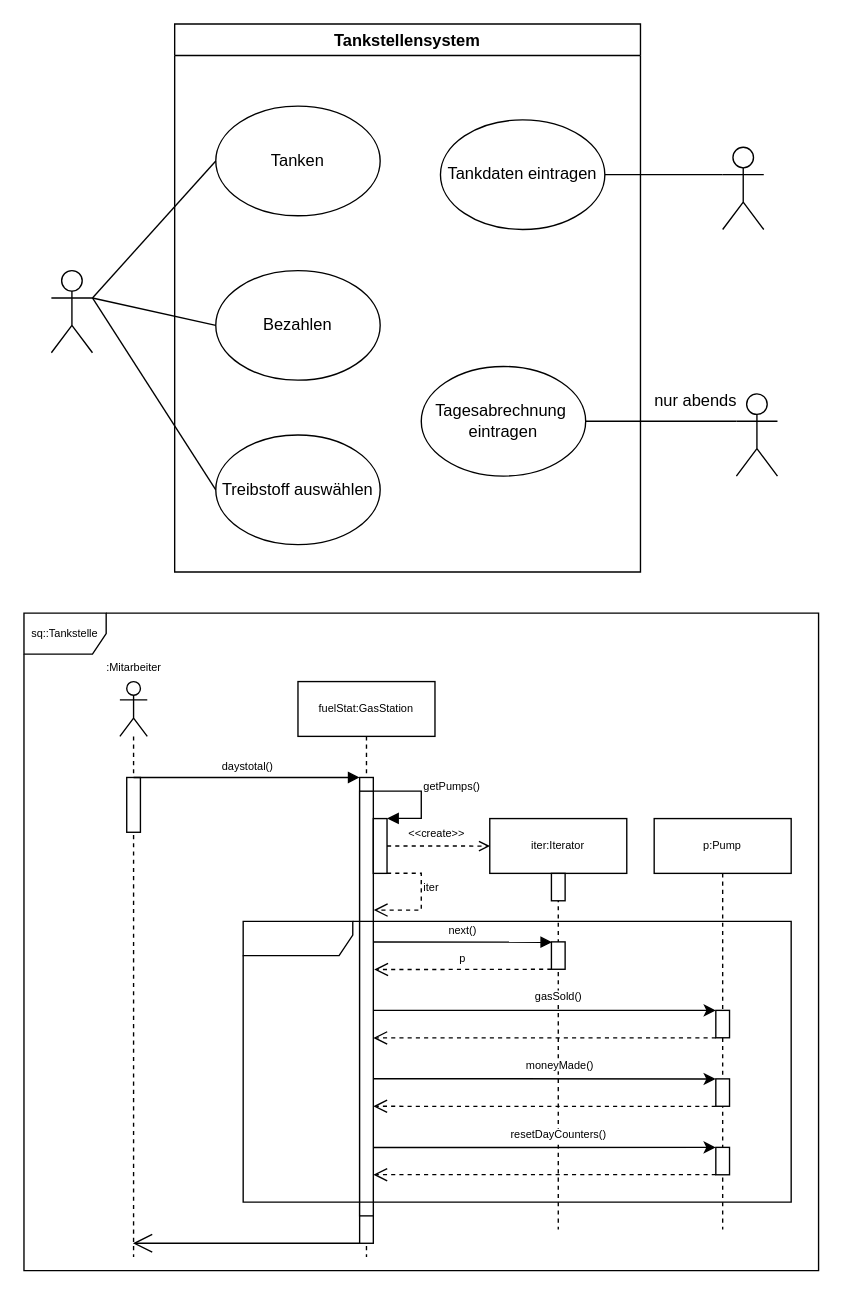
Some shapes in this 843 by 1295 pixel diagram are drawn without their labels. Here are the shapes that lost their labels. From the top down, the centre of each, then its label:
point (742, 187): Zapfsäule
point (71, 311): Kunde
point (756, 434): Timer
point (516, 1061): loop[iter.hasNext()]
